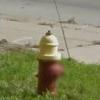Hydrant: (28, 23, 67, 100)
